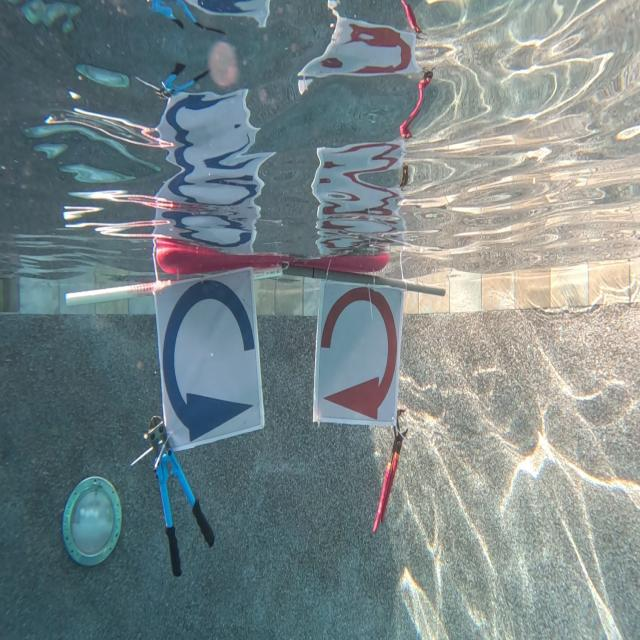blue_side: (151, 270, 267, 448)
red_side: (315, 277, 397, 433)
